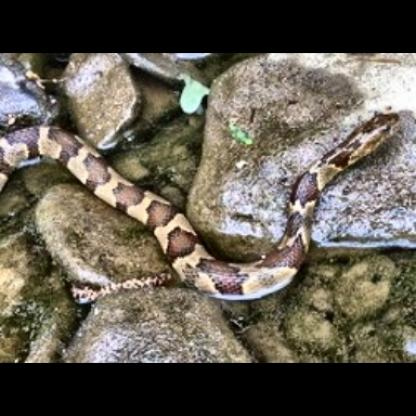Snake: (13, 60, 416, 332)
